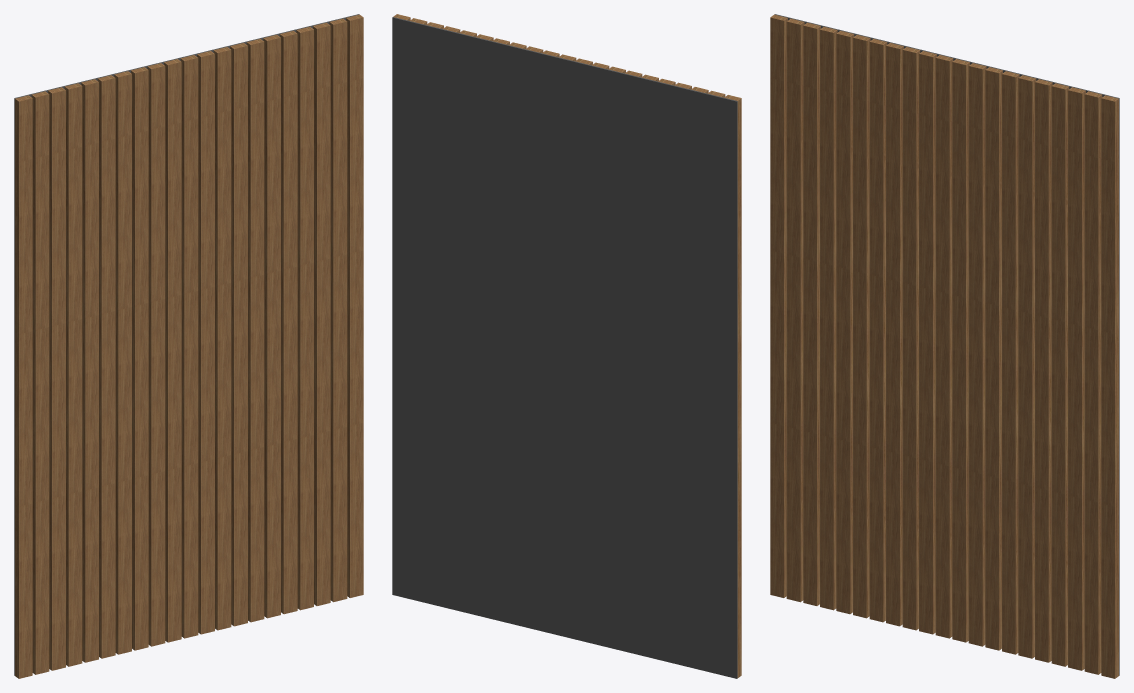
Rendered from acoustic_panel.glb.
3 renders of one model, left to right at view 1: azimuth 30°, elevation 25°; view 2: azimuth 150°, elevation 25°; view 3: azimuth 330°, elevation 25°, orthographic.
Visible parts, largest first — view 1: Geom3D (×22); view 2: Geom3D (×2); view 3: Geom3D (×22).
Part boxes in pixels (<box>): Geom3D (×22): <box>14,14,363,678</box>; Geom3D (×2): <box>392,17,741,678</box>; Geom3D (×22): <box>770,14,1119,678</box>.
Bounding box in the file's own units: 1.25 × 2 × 0.03.
2 materials, 1 textured.
